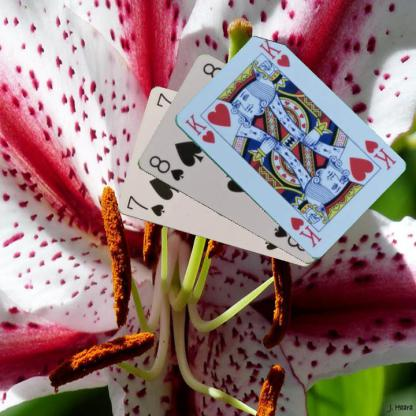7s: (124, 193, 166, 218)
8s: (145, 152, 185, 182)
Kh: (361, 137, 398, 172), (182, 111, 216, 145)
